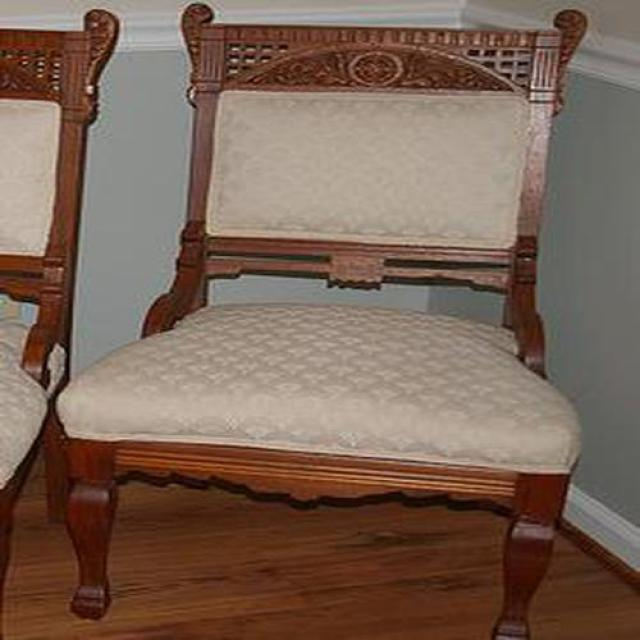chair: (55, 4, 590, 640)
